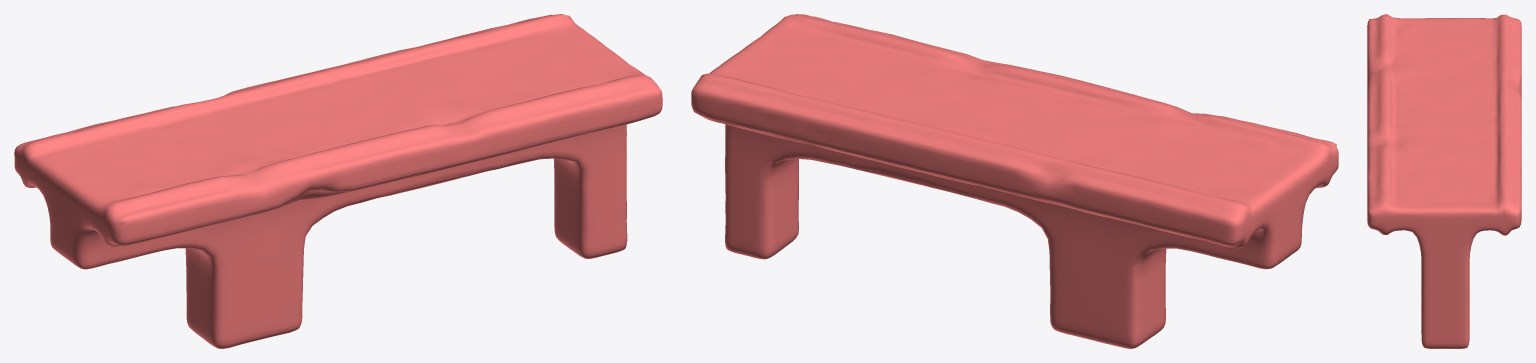
The model's file is arch02-4.fbx.
3 views of the same model, side by side, from view 1: azimuth 30°, elevation 25°; view 2: azimuth 150°, elevation 25°; view 3: azimuth 270°, elevation 25° (orthographic). The views are drawn at different scales.
Parts seen in each view (by area): view 1: pCube13; view 2: pCube13; view 3: pCube13.
Boxes of the visible parts, x1,y1,x2,y2 form: pCube13: (14, 14, 662, 348); pCube13: (691, 14, 1338, 348); pCube13: (1367, 14, 1521, 348).
Size of the model in its own units: 5.97 by 2.08 by 2.
